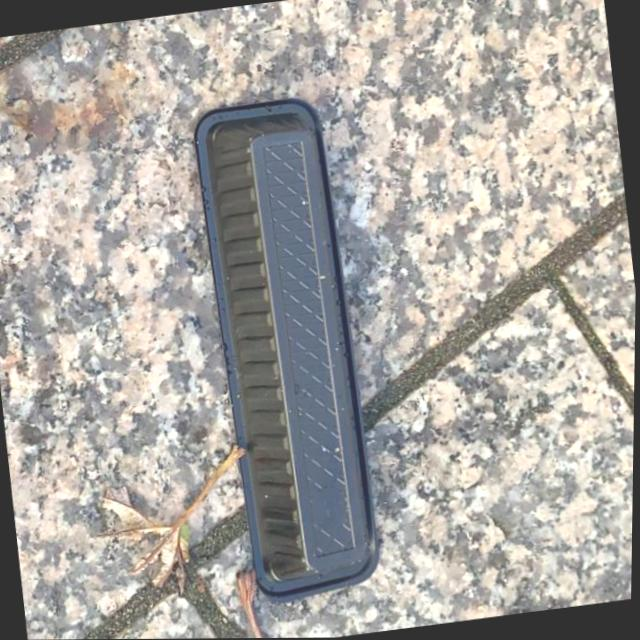Plastic: (180, 85, 395, 609)
